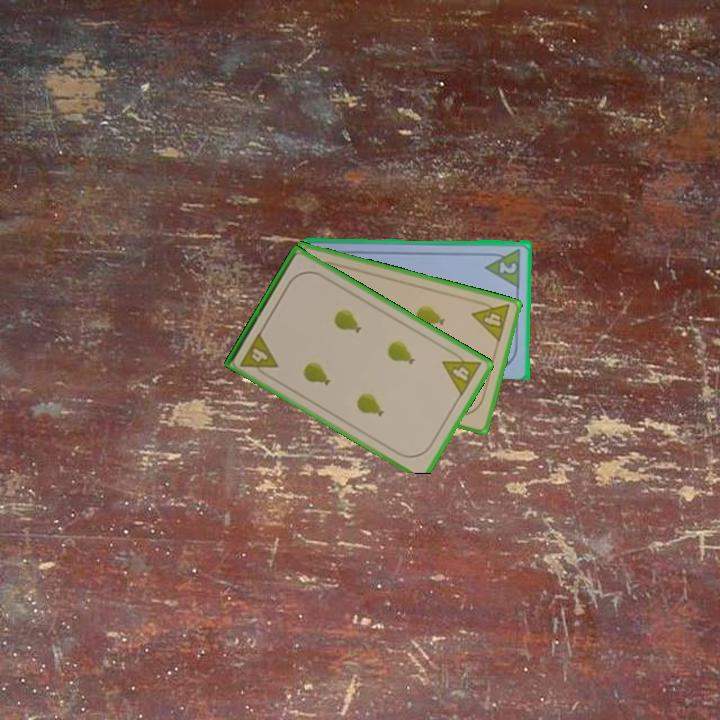2p: (483, 245, 523, 288)
4p: (439, 346, 484, 399), (237, 329, 281, 381), (469, 296, 513, 345)
